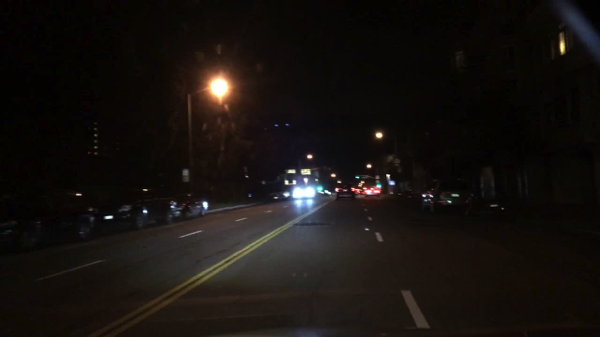car: (0, 192, 112, 249), (98, 186, 185, 227), (431, 179, 477, 213), (173, 195, 208, 220), (334, 184, 358, 201), (291, 187, 316, 200), (267, 186, 290, 200), (419, 186, 432, 209), (364, 184, 381, 198)
traffic light: (318, 187, 323, 191), (354, 176, 360, 179)
traffic sign: (182, 169, 189, 182), (301, 169, 311, 175), (286, 170, 295, 174)
